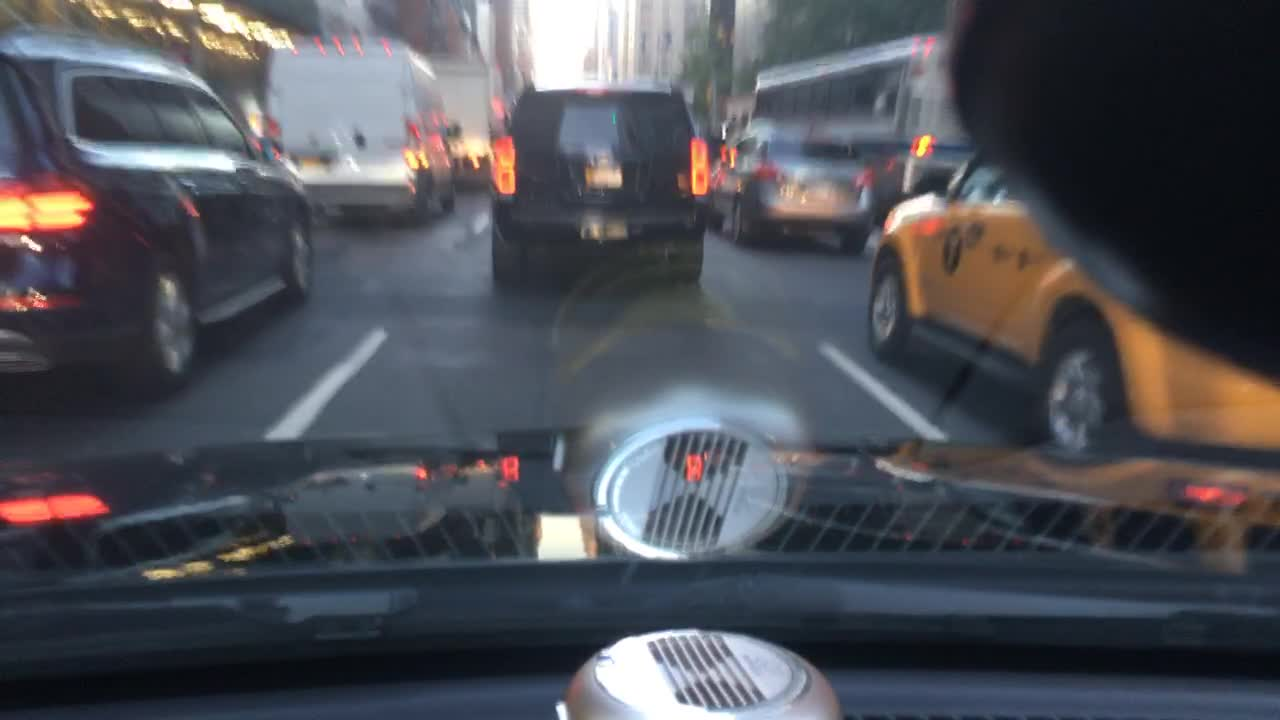bus: (750, 29, 956, 217)
car: (866, 144, 1279, 474), (0, 27, 315, 403), (489, 88, 711, 281), (704, 117, 875, 256), (855, 152, 957, 237)
truck: (264, 35, 454, 223), (424, 48, 499, 187)
